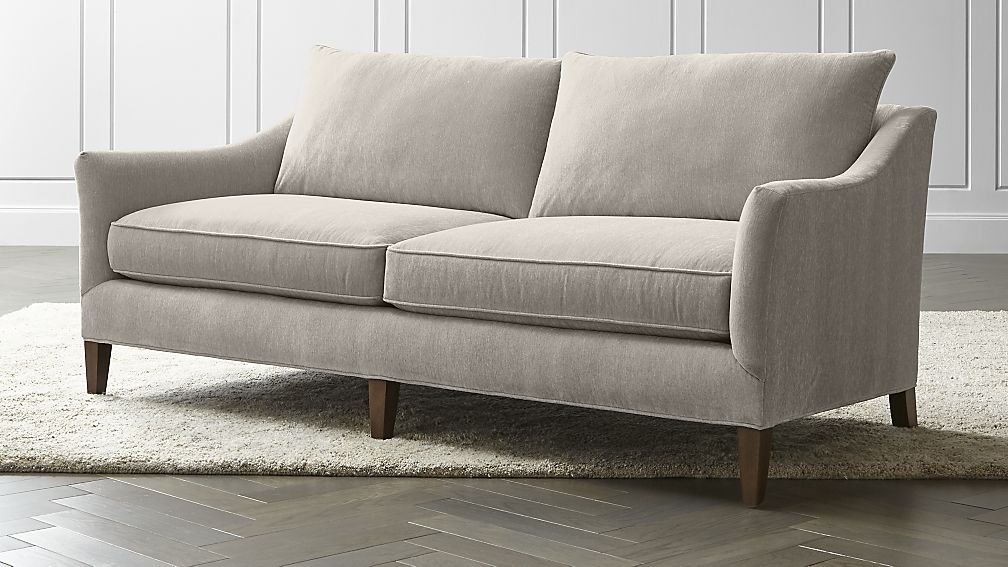chairs: (36, 42, 947, 500)
